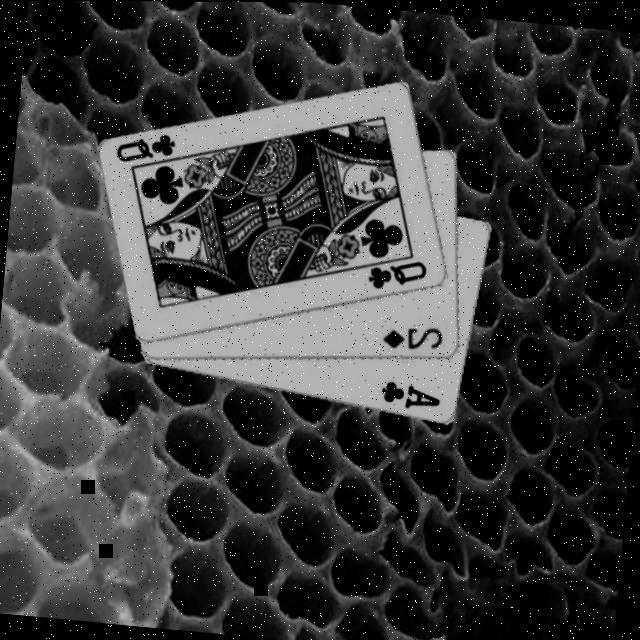2D: (380, 317, 448, 353)
AC: (378, 375, 444, 411)
QC: (113, 124, 180, 168), (364, 252, 432, 292)
